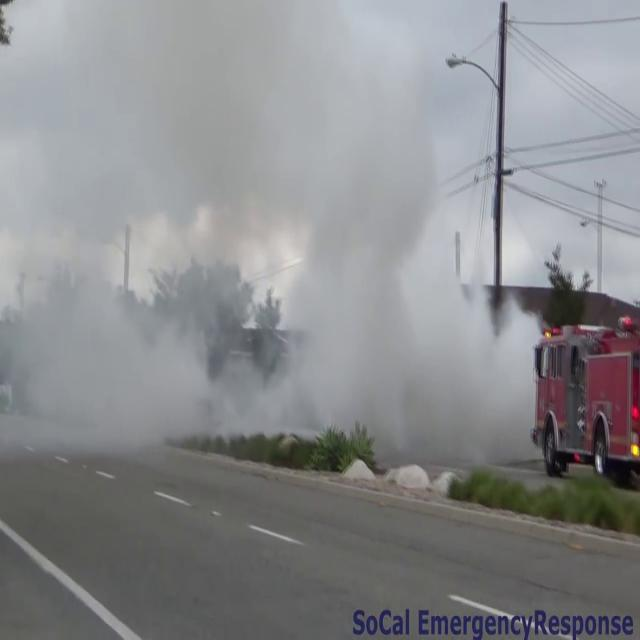Smoke: (1, 10, 547, 468)
